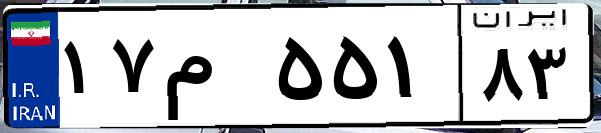1: (385, 28, 445, 110), (57, 26, 110, 100)
3: (525, 38, 570, 115)
5: (270, 28, 330, 110), (330, 28, 385, 110)
7: (110, 28, 158, 98)
8: (475, 38, 525, 113)
م: (158, 20, 270, 120)
